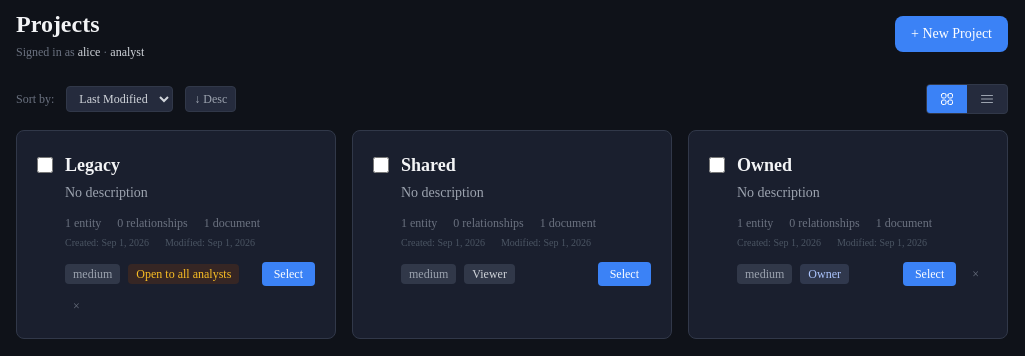
Test case: projects list access › shows the access column in the list view
Expected: the heading "Owned" is shown, [737,155,792,175]
Step 1. Click the button named "List view" → (987, 99), box [967,85,1007,113]
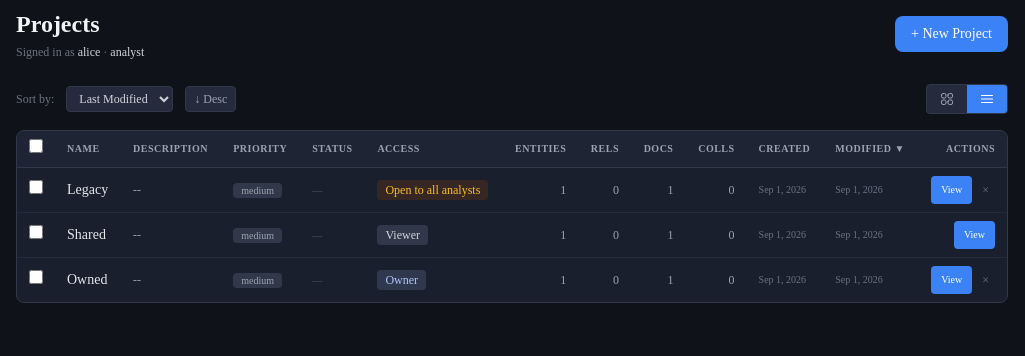
Expected: the text "Viewer" is shown, [377,225,428,245]
Expected: the column heading "Access" is shown, [365,131,502,168]
